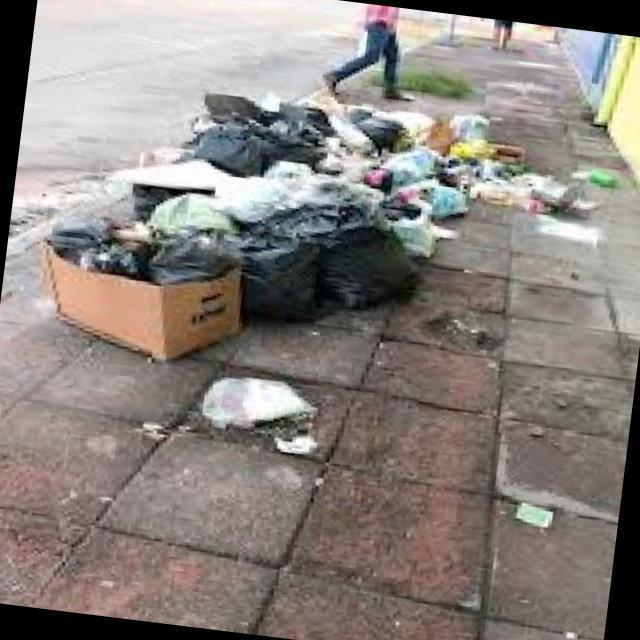garbage: (22, 18, 594, 415), (178, 362, 355, 476), (500, 486, 570, 539), (565, 159, 640, 197)
